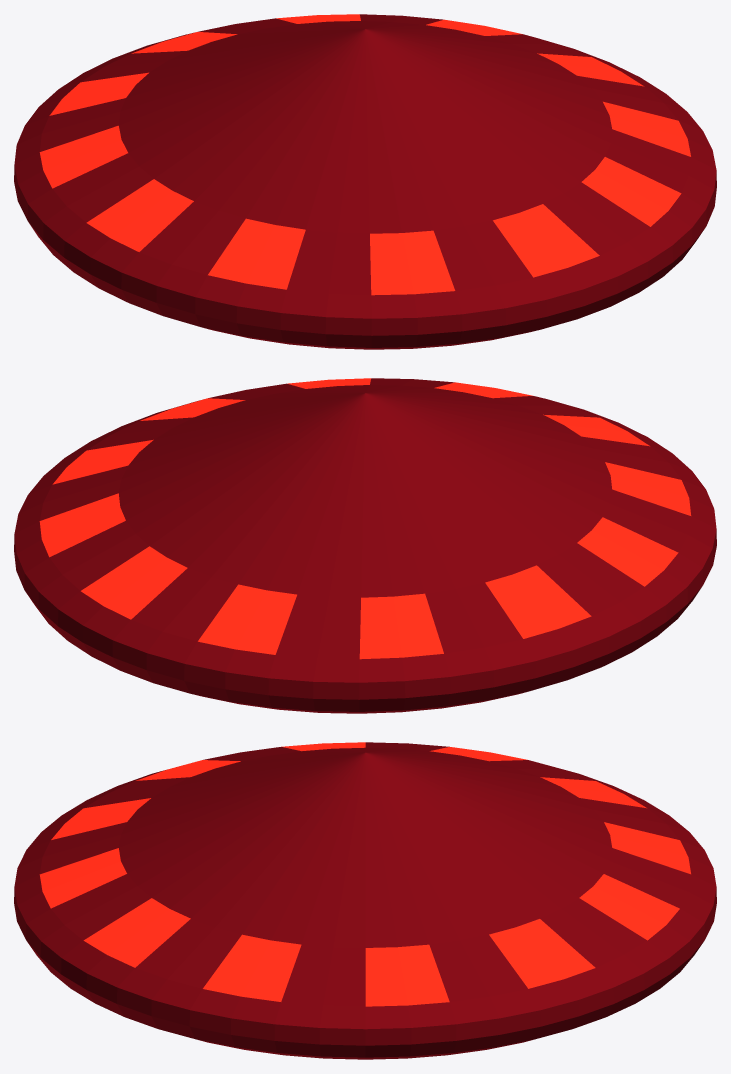
The model's file is enUFO.glb.
3 renders of one model, top to bottom at view 1: azimuth 30°, elevation 25°; view 2: azimuth 150°, elevation 25°; view 3: azimuth 270°, elevation 25°, orthographic. The views are drawn at different scales.
Parts seen in each view (by area): view 1: Torus; view 2: Torus; view 3: Torus.
Boxes of the visible parts, <box> form: Torus: <box>14,14,716,349</box>; Torus: <box>14,378,716,713</box>; Torus: <box>14,742,716,1059</box>.
Bounding box in the file's own units: 4.47 × 1.34 × 4.65.
